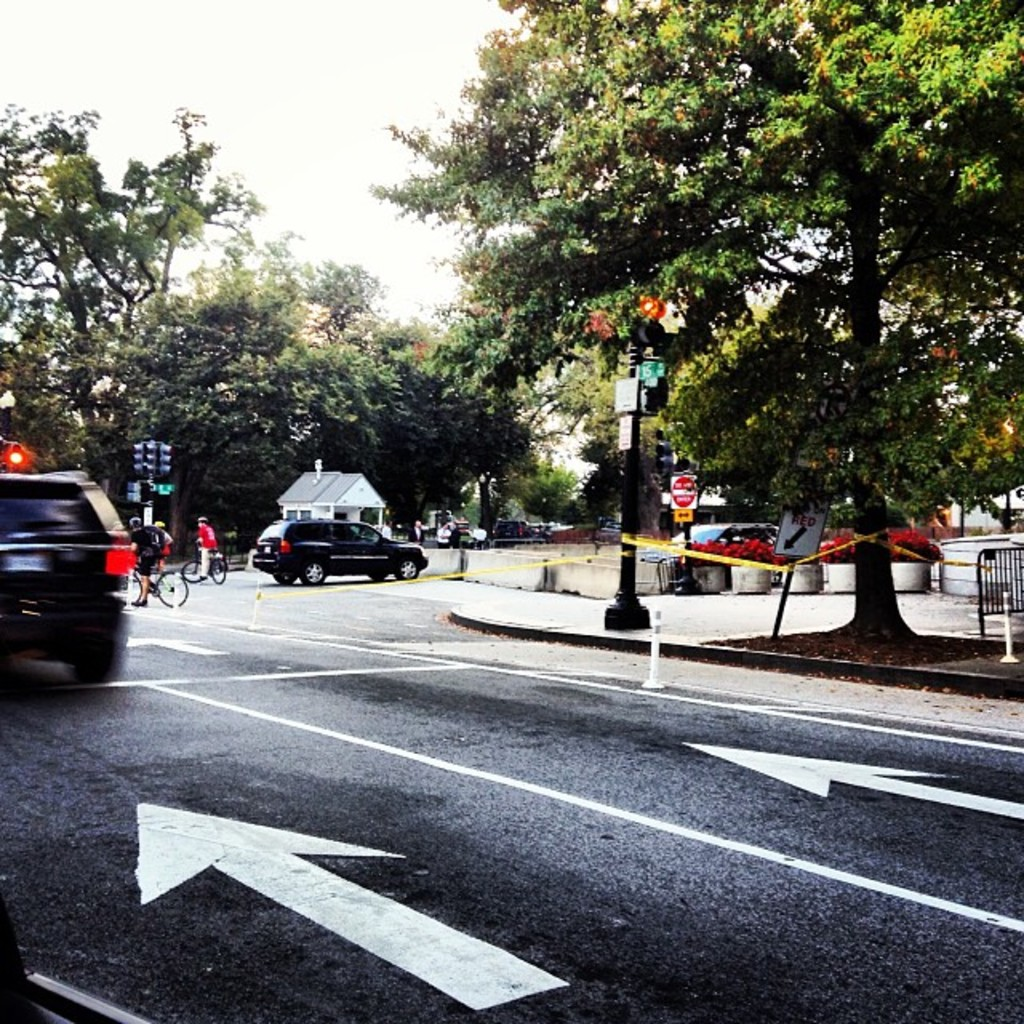Car: (1, 460, 147, 694), (249, 516, 430, 587), (433, 523, 484, 545), (487, 516, 529, 542)
